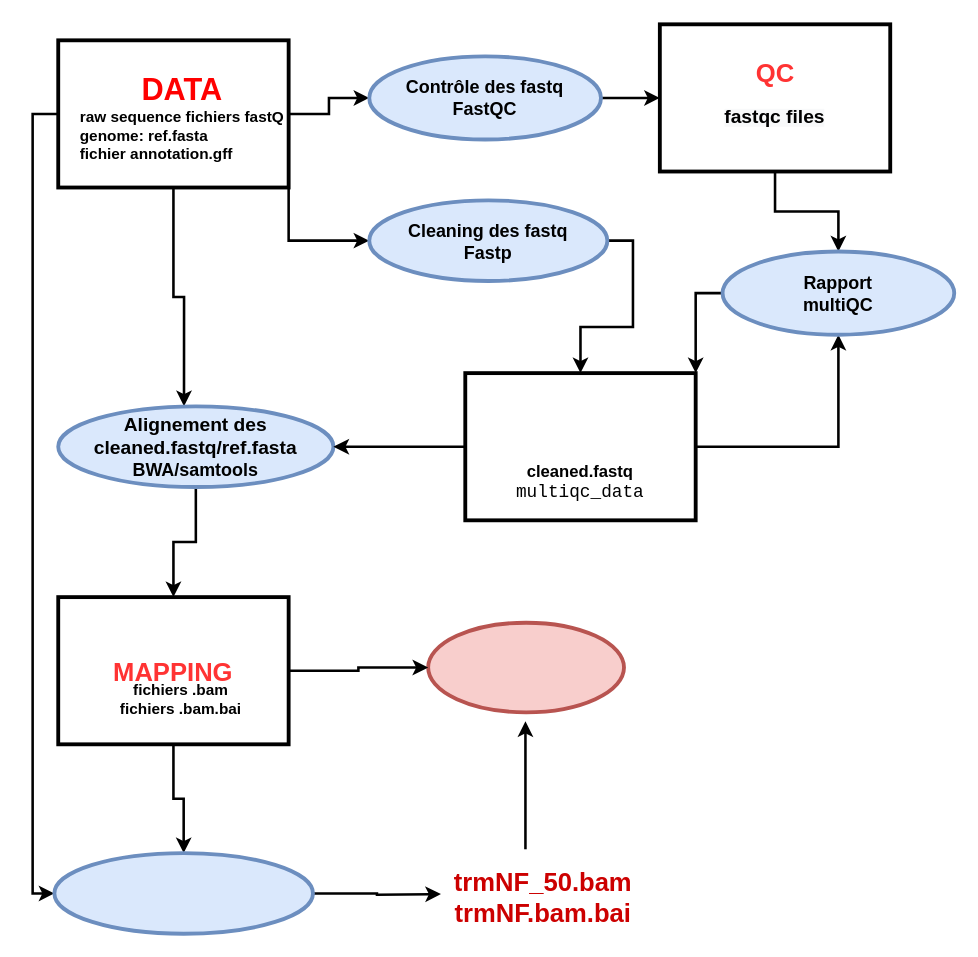
Some shapes in this 978 by 957 pixel diagram are drawn without their labels. The box of each missing label's shape, as (x1, y1, x2, y2) in pixels:
Analyse gene trmNF bedtools samtools: (52, 851, 314, 935)
CLEANING: (463, 371, 697, 522)
vizualisation IGV: (426, 620, 625, 714)
